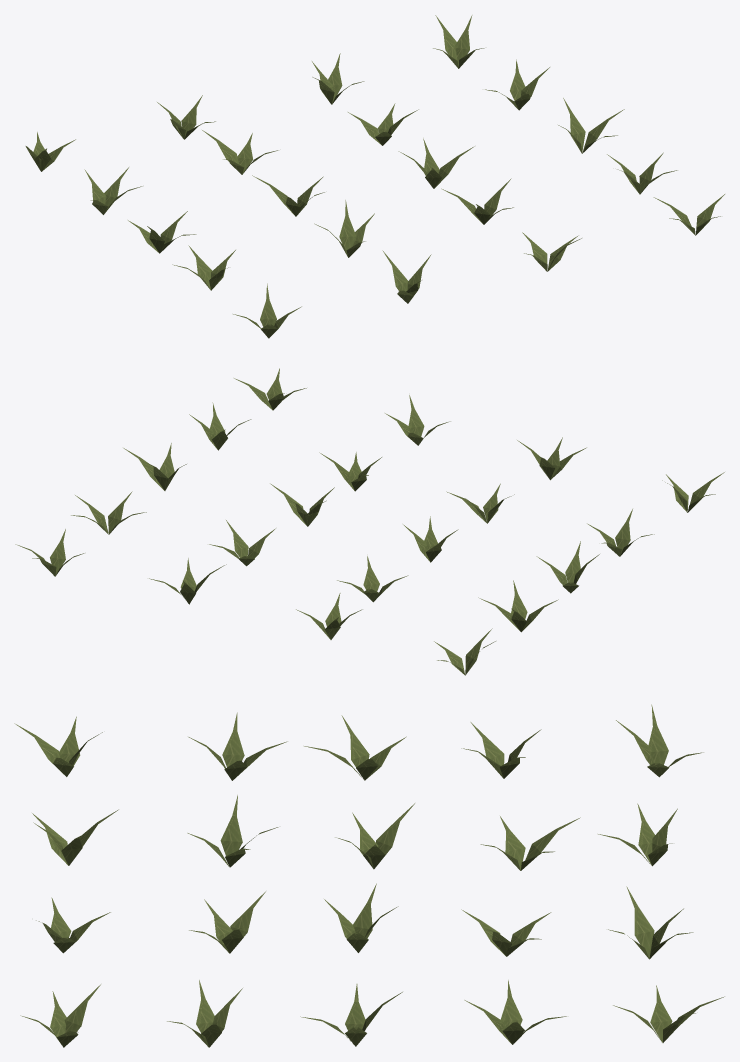
The model's file is crop_carrot_young.fbx.
3 views of the same model, one above another, from view 1: azimuth 30°, elevation 25°; view 2: azimuth 150°, elevation 25°; view 3: azimuth 270°, elevation 25° (orthographic). The views are drawn at different scales.
Parts seen in each view (by area): view 1: crop_carrot_young; view 2: crop_carrot_young; view 3: crop_carrot_young.
Boxes of the visible parts, bbox=[...] form: crop_carrot_young: bbox=[25, 15, 724, 338]; crop_carrot_young: bbox=[15, 368, 724, 675]; crop_carrot_young: bbox=[14, 704, 724, 1047].
Size of the model in its own units: 1.67 by 0.137 by 1.57.
Materials: 1 (1 with a texture image).
